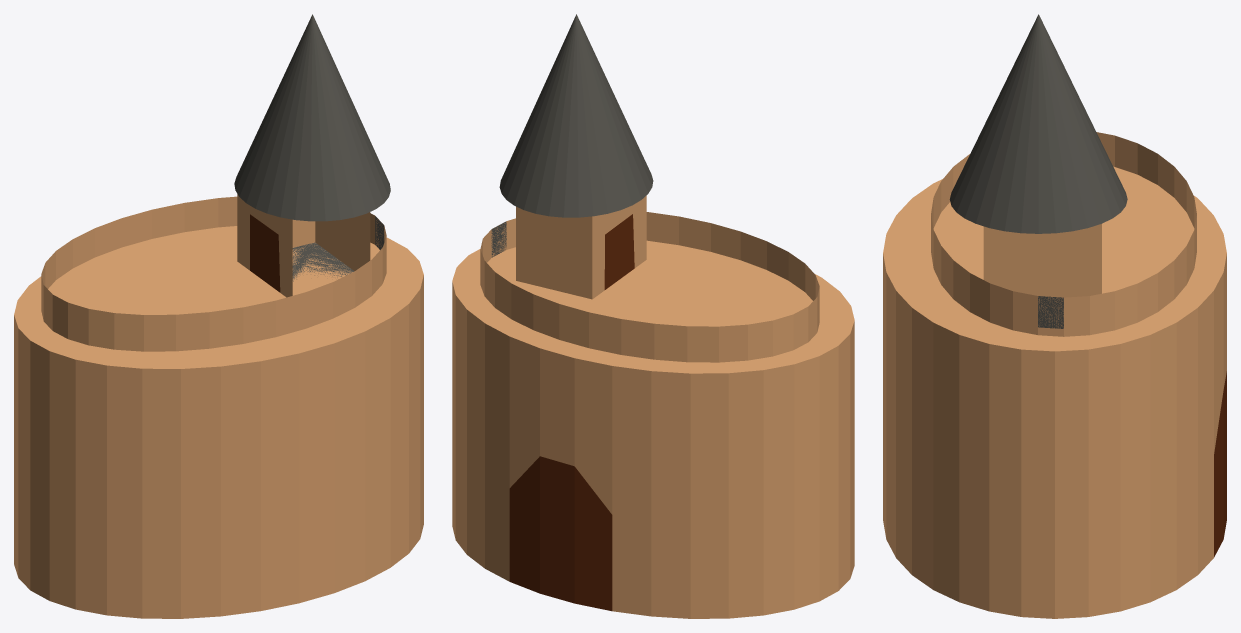
The model's file is Home.glb.
3 views of the same model, side by side, from view 1: azimuth 30°, elevation 25°; view 2: azimuth 150°, elevation 25°; view 3: azimuth 270°, elevation 25° (orthographic). The views are drawn at different scales.
Parts seen in each view (by area): view 1: Cube.004; view 2: Cube.004; view 3: Cube.004.
Boxes of the visible parts, left/top/right/bottom form: Cube.004: left=14, top=14, right=423, bottom=618; Cube.004: left=452, top=14, right=854, bottom=618; Cube.004: left=883, top=14, right=1226, bottom=618.
Bounding box in the file's own units: 0.3227 × 0.4213 × 0.2381.
Materials: 3 (2 with a texture image).
